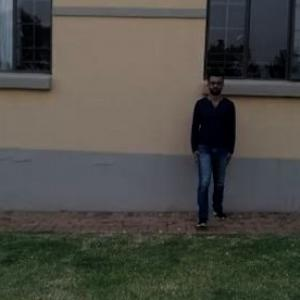follow: (191, 67, 238, 225)
